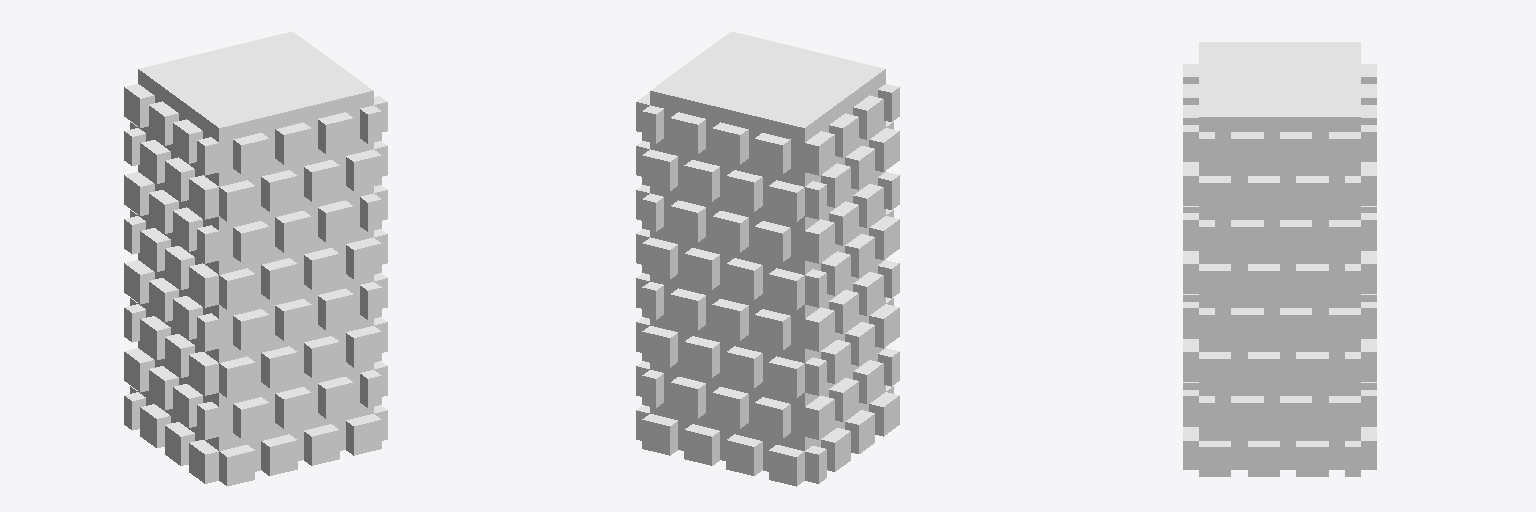
File: column_h24_sq_1.0.obj
3 renders of one model, left to right at view 1: azimuth 30°, elevation 25°; view 2: azimuth 150°, elevation 25°; view 3: azimuth 270°, elevation 25°, orthographic.
Parts seen in each view (by area): view 1: object 1; view 2: object 1; view 3: object 1.
Part boxes in pixels (x1,y1,x2,y2): object 1: (124, 31, 387, 486); object 1: (636, 31, 899, 486); object 1: (1183, 42, 1376, 476).
Bounding box in the file's own units: 1.3 × 2.4 × 1.2.